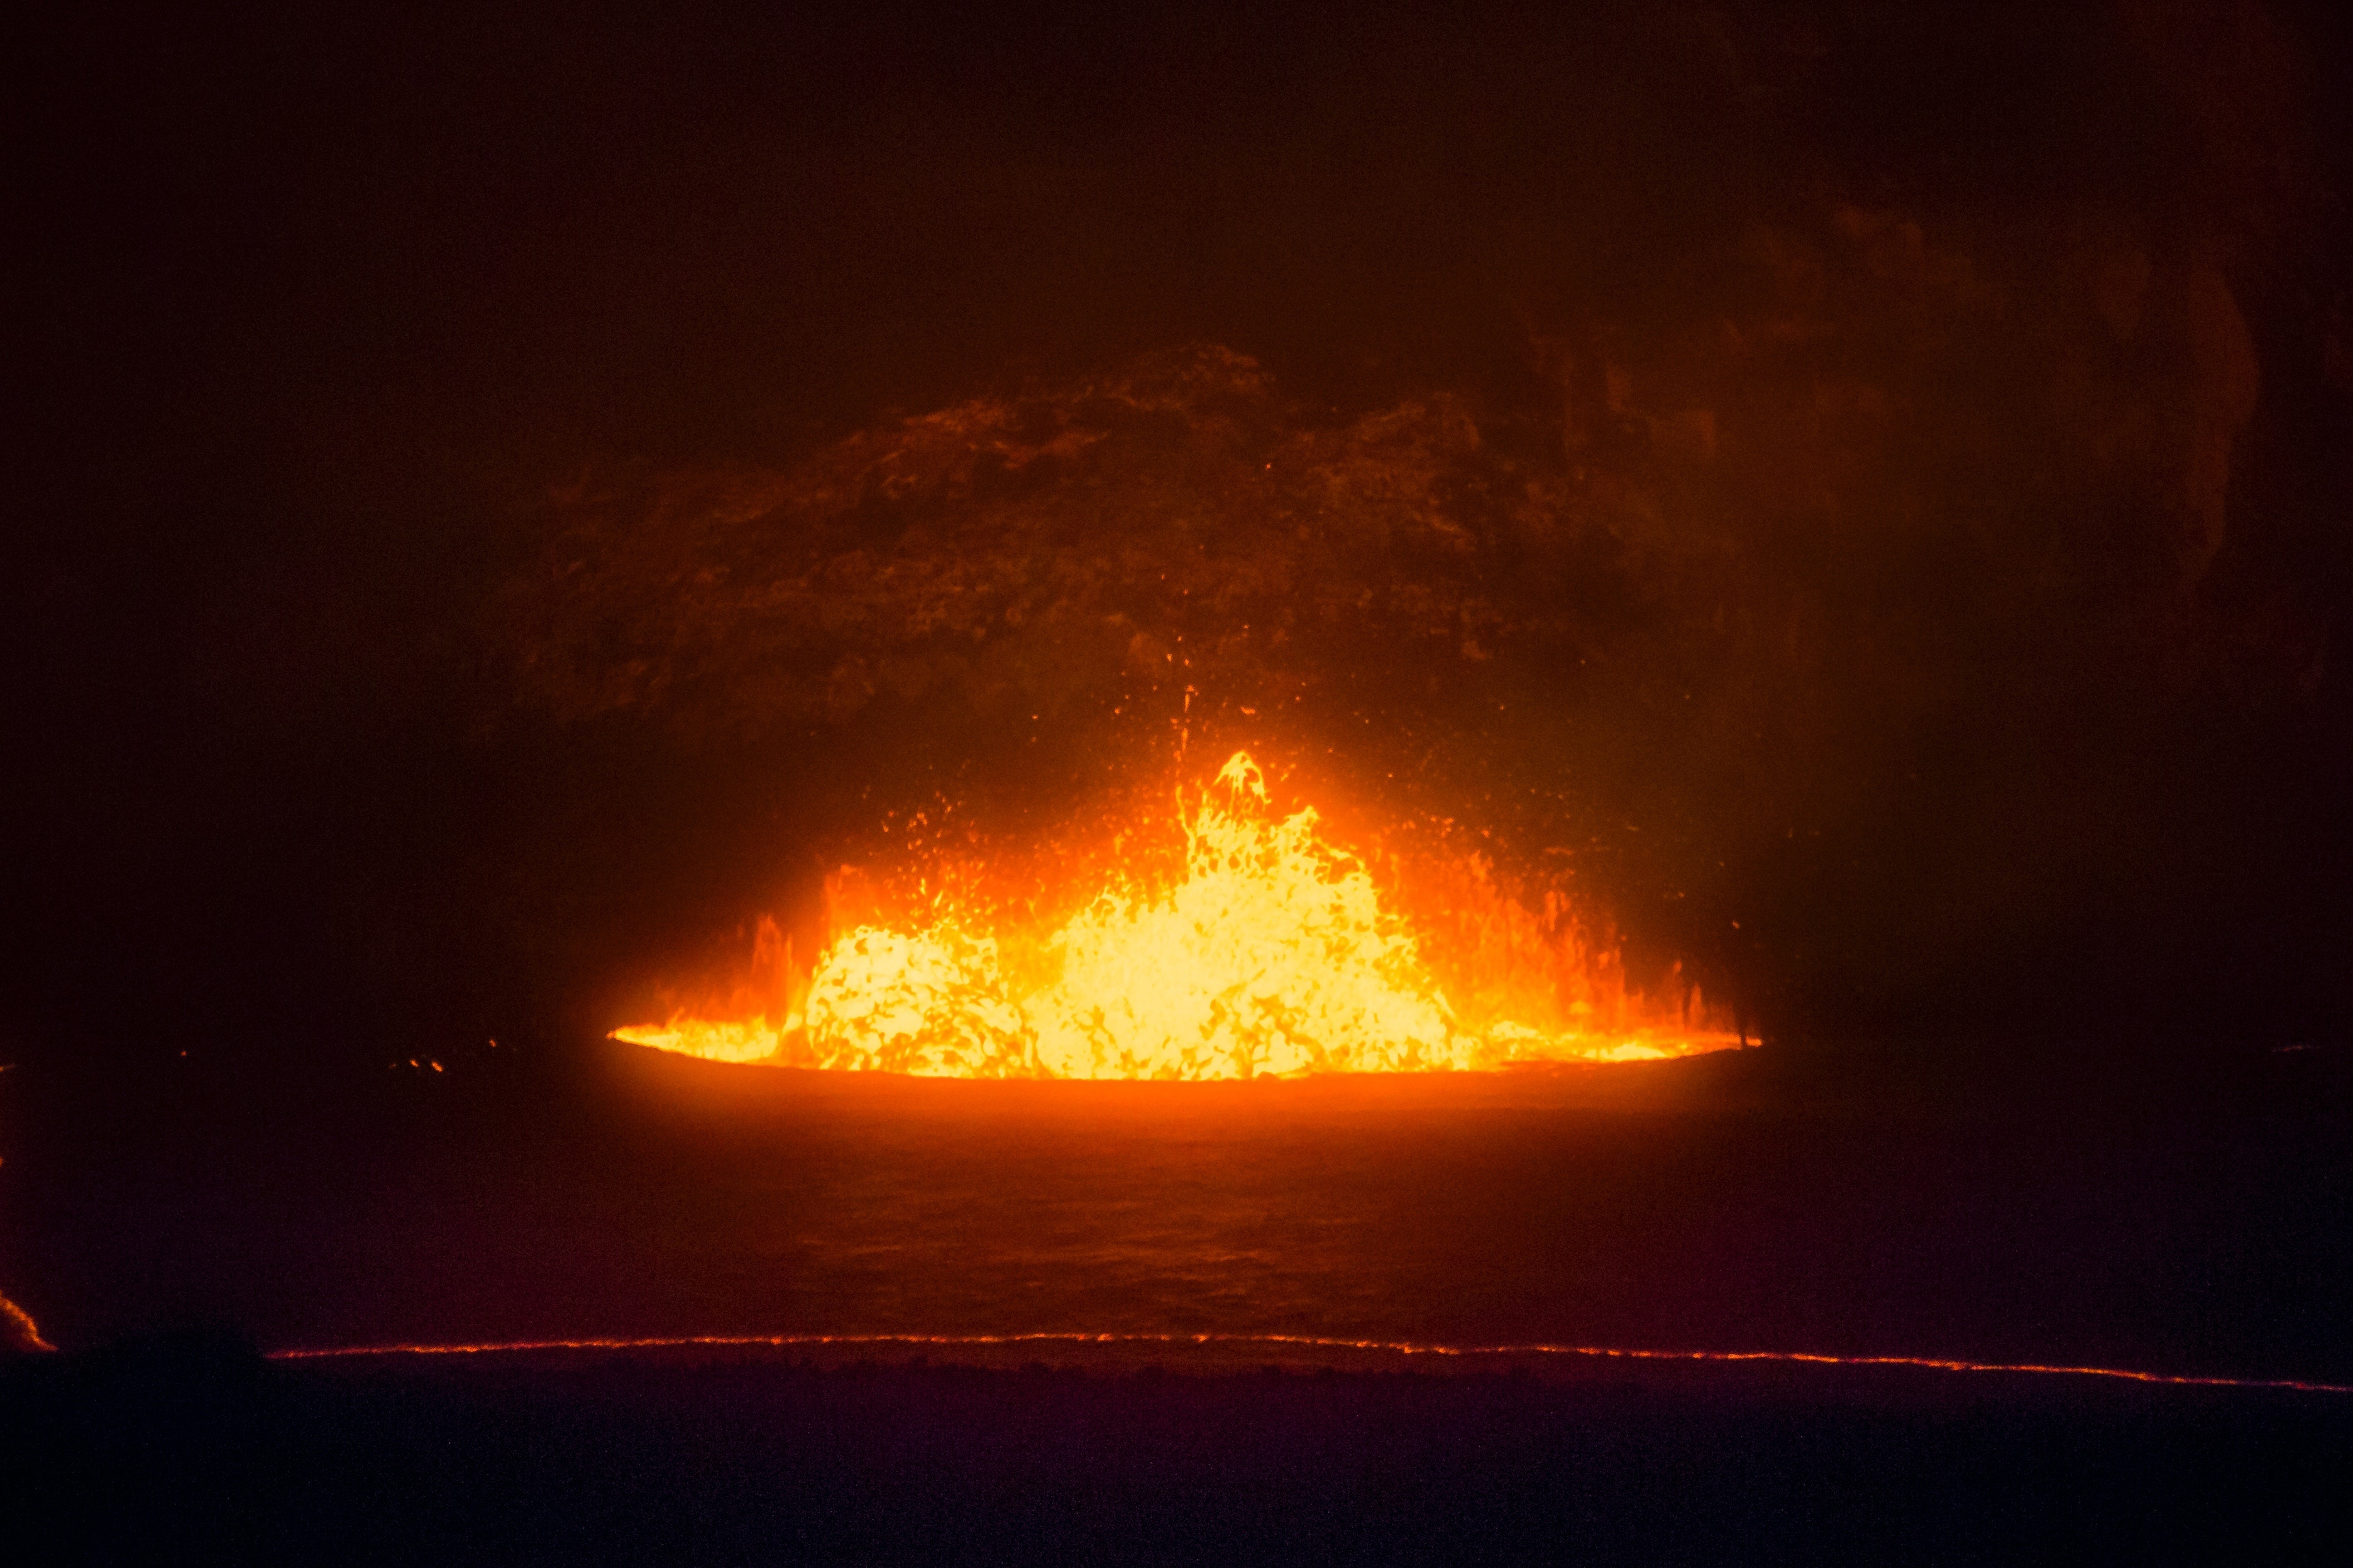fire: (594, 728, 1767, 1106)
